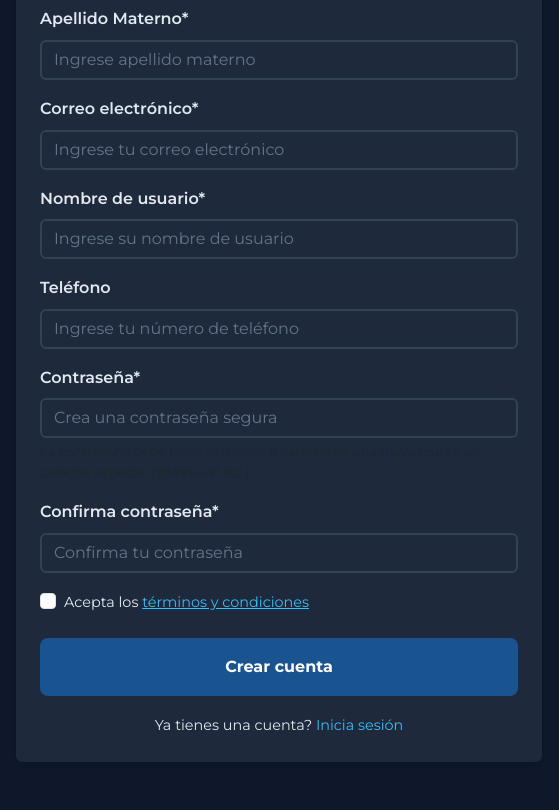
Test: Registro Component › Validaciones de campos obligatorios › debe mostrar error cuando el campo nombre está vacío
(page scrolled)
Click the button "Crear cuenta" at (279,667), box left=40, top=638, right=518, bottom=696
(page scrolled)
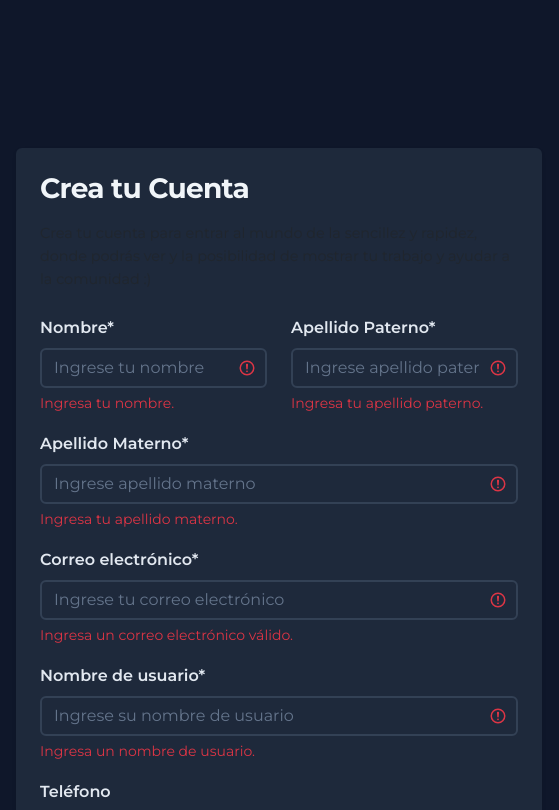
Result: the text "Ingresa tu nombre." is shown at left=40, top=394, right=174, bottom=412
